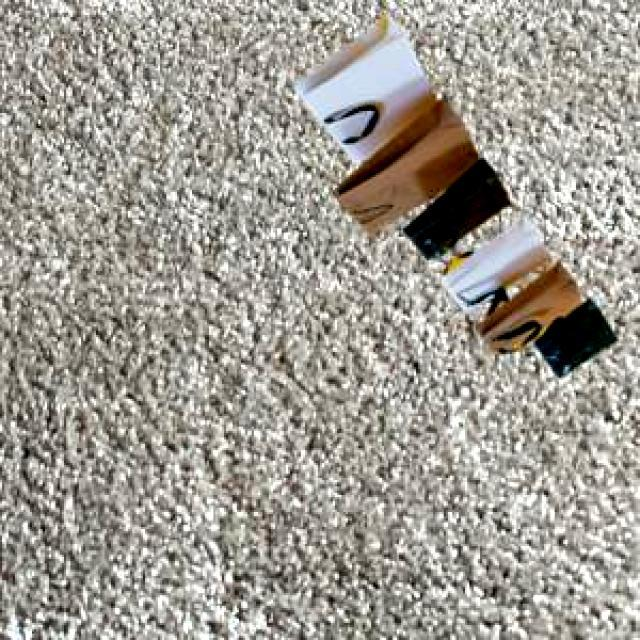Paper_Bag: (292, 12, 614, 374)
